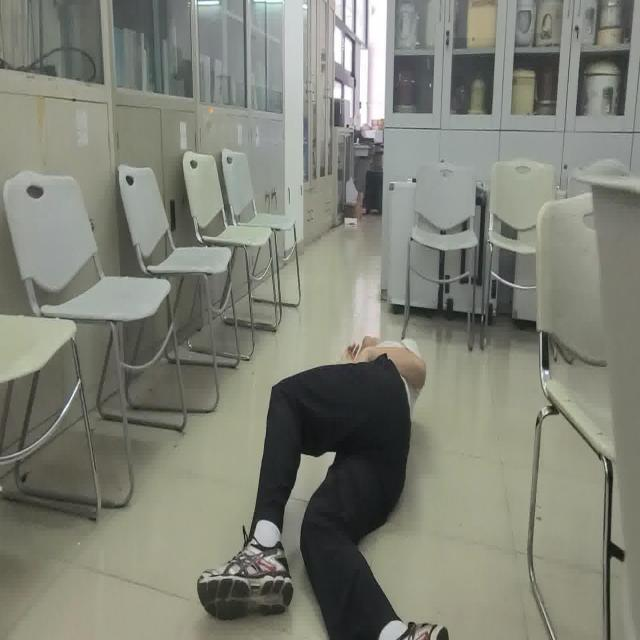fall: (193, 329, 452, 640)
